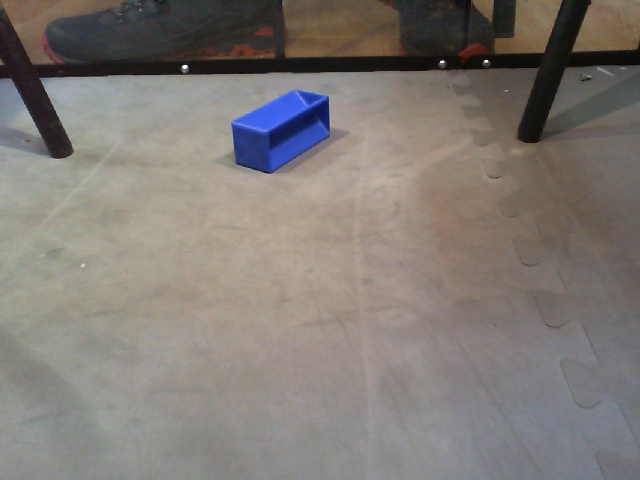BlueSample: (228, 89, 337, 178)
